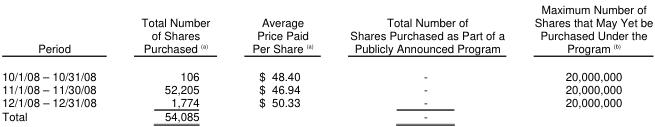table: (1, 0, 652, 123)
table column: (330, 0, 518, 123), (518, 0, 652, 123), (1, 0, 118, 123), (118, 0, 230, 123), (230, 0, 330, 123)
table column header: (1, 0, 652, 61)
table row: (1, 0, 652, 61), (1, 61, 652, 81), (1, 108, 652, 123), (1, 94, 652, 108), (1, 81, 652, 94)
